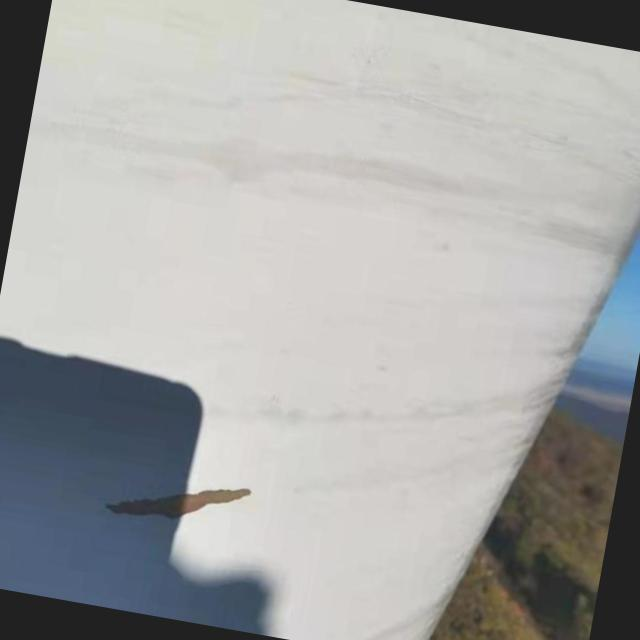surface_peeling: (100, 462, 253, 539)
